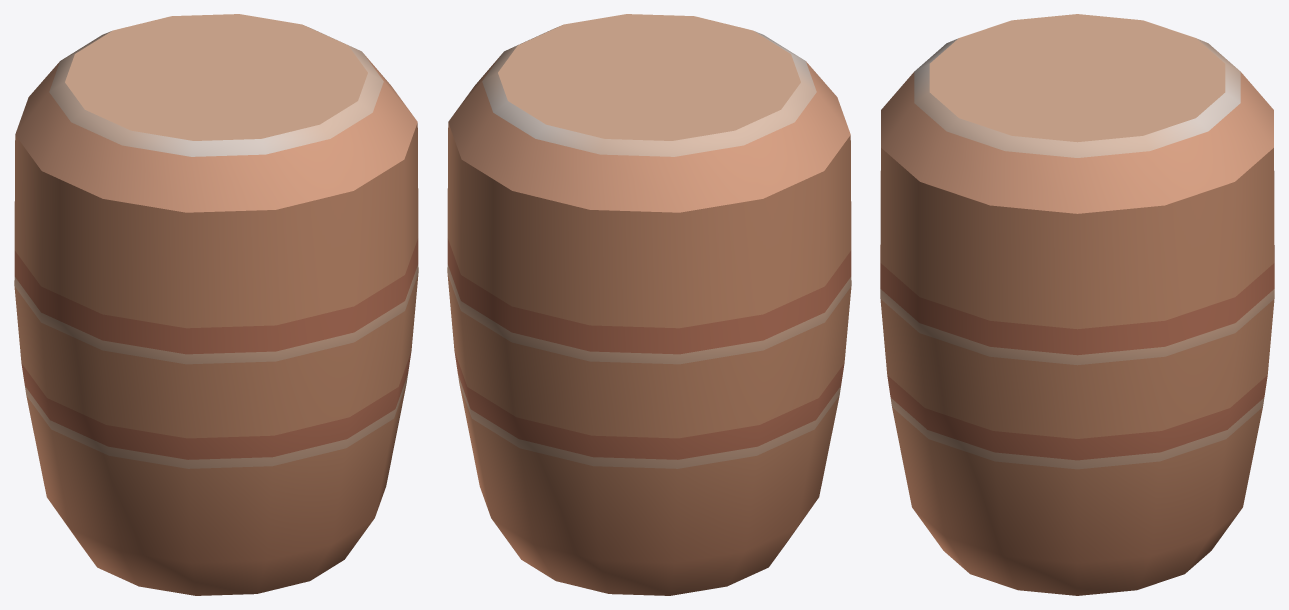
File: PuffyConeOrange.glb
3 renders of one model, left to right at view 1: azimuth 30°, elevation 25°; view 2: azimuth 150°, elevation 25°; view 3: azimuth 270°, elevation 25°, orthographic.
Visible parts, largest first — view 1: PuffyConeOrange; view 2: PuffyConeOrange; view 3: PuffyConeOrange.
Boxes of the visible parts, box(x1,y1,x2,y2) form: PuffyConeOrange: box(14, 14, 418, 595); PuffyConeOrange: box(447, 14, 851, 595); PuffyConeOrange: box(880, 14, 1274, 595).
Bounding box in the file's own units: 0.5992 × 0.7522 × 0.5842.
